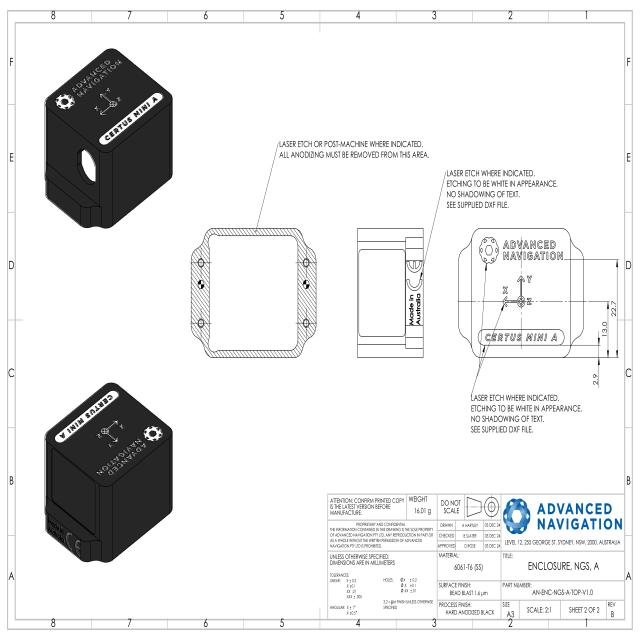dimension: (611, 256, 620, 360), (592, 329, 603, 388), (601, 298, 611, 359)
